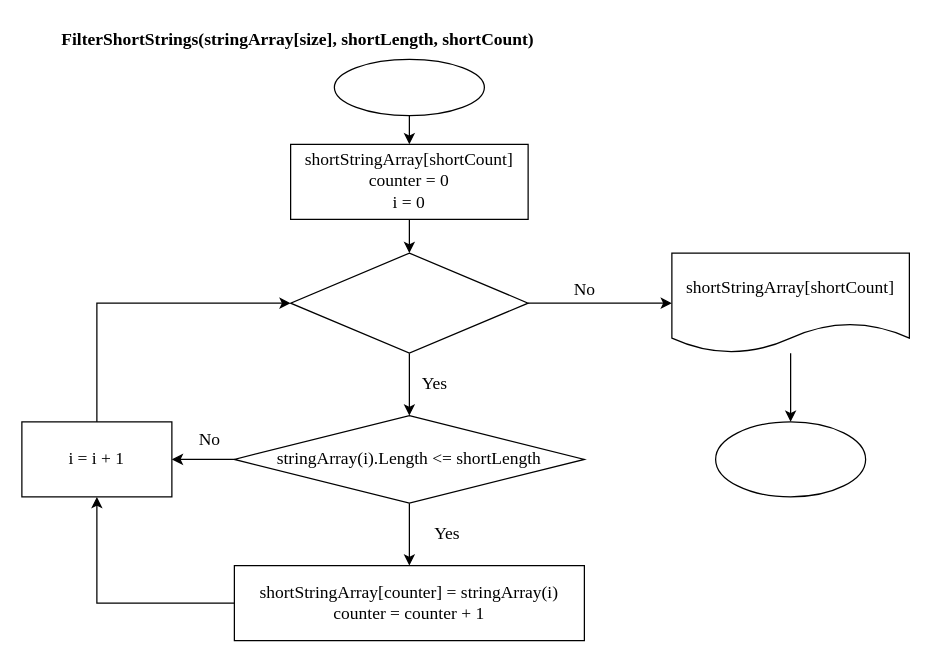
The diagram is 931 pixels wide and 663 high, and some of its shapes have lost their labels. Each missing label, with the box of its shape:
end: (714, 421, 866, 497)
i < size: (289, 252, 528, 353)
start: (333, 58, 484, 116)
